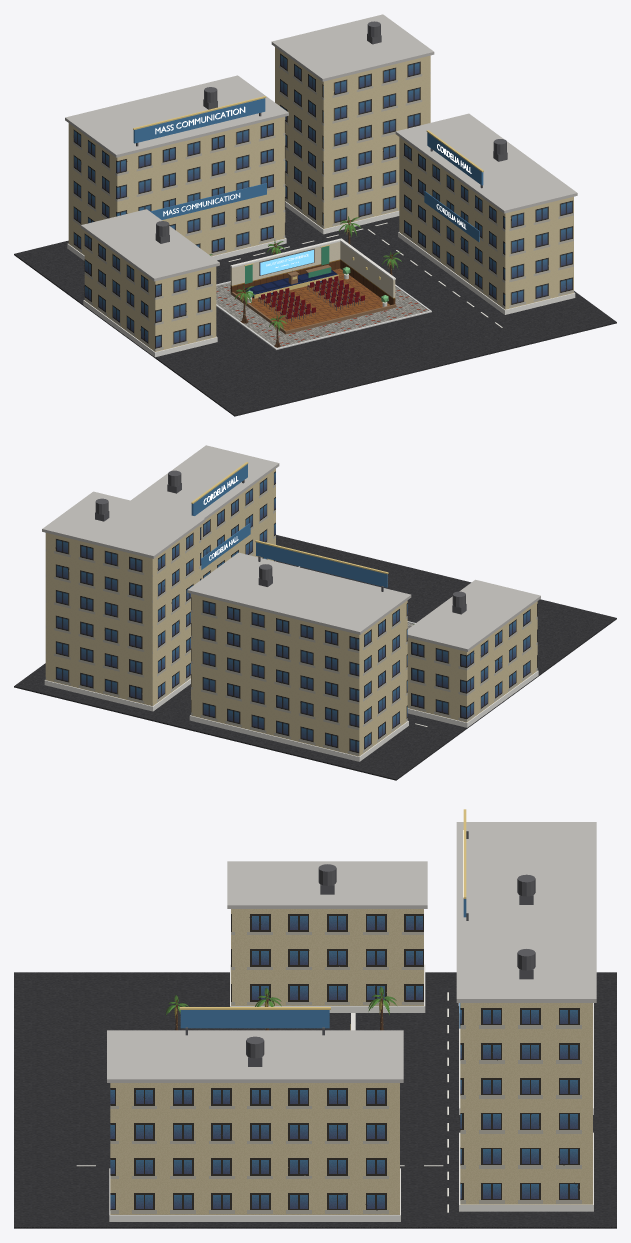
Rendered from conference-hall.glb.
3 renders of one model, top to bottom at view 1: azimuth 30°, elevation 25°; view 2: azimuth 150°, elevation 25°; view 3: azimuth 270°, elevation 25°, orthographic. The views are drawn at different scales.
Parts seen in each view (by area): view 1: Facade, Asphalt, Roof, SignBoard, Trim, Paving, HallWall, HallTile, ChairMetal, WhiteText, Gold, Walnut (+3 smaller); view 2: Facade, Roof, Asphalt, SignBoard, Trim, ChairMetal, Gold; view 3: Facade, Asphalt, Roof, Trim, SignBoard, ChairMetal, Gold.
Boxes of the visible parts, x1=… form: Facade: x1=68, y1=47, x2=573, y2=351; Asphalt: x1=14, y1=207, x2=616, y2=416; Roof: x1=65, y1=14, x2=577, y2=281; SignBoard: x1=133, y1=98, x2=483, y2=241; Trim: x1=67, y1=201, x2=575, y2=357; Paving: x1=216, y1=282, x2=428, y2=347; HallWall: x1=230, y1=241, x2=395, y2=305; HallTile: x1=236, y1=268, x2=389, y2=330; ChairMetal: x1=136, y1=21, x2=507, y2=275; WhiteText: x1=155, y1=106, x2=471, y2=267; Gold: x1=133, y1=96, x2=483, y2=298; Walnut: x1=230, y1=265, x2=396, y2=334; Facade: x1=45, y1=469, x2=537, y2=756; Roof: x1=42, y1=445, x2=540, y2=651; Asphalt: x1=14, y1=535, x2=616, y2=780; SignBoard: x1=191, y1=464, x2=387, y2=587; Trim: x1=44, y1=670, x2=538, y2=761; ChairMetal: x1=95, y1=470, x2=466, y2=614; Gold: x1=191, y1=462, x2=388, y2=574; Facade: x1=110, y1=909, x2=592, y2=1214; Asphalt: x1=14, y1=972, x2=616, y2=1228; Roof: x1=107, y1=822, x2=596, y2=1082; Trim: x1=109, y1=964, x2=593, y2=1221; SignBoard: x1=180, y1=899, x2=466, y2=1028; ChairMetal: x1=185, y1=831, x2=535, y2=1066; Gold: x1=179, y1=809, x2=466, y2=1029.
Size of the model in its own units: 50.3 by 21.9 by 50.
Materials: 21 (7 with a texture image).
